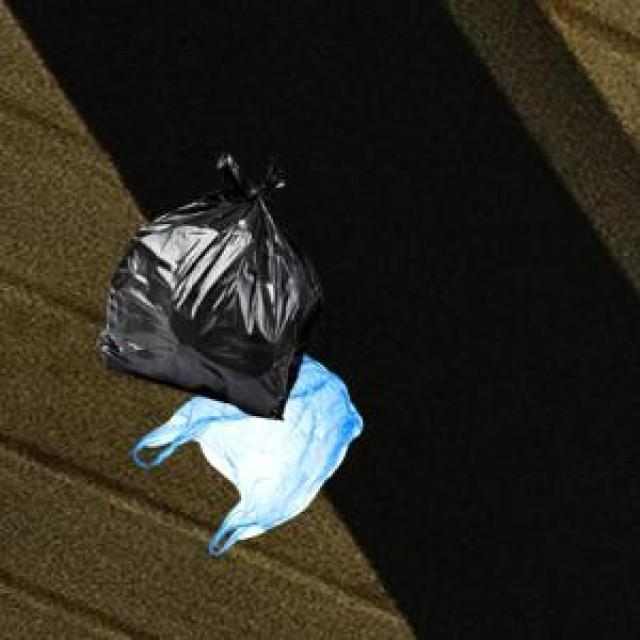miscellaneous trash: (94, 149, 318, 416)
